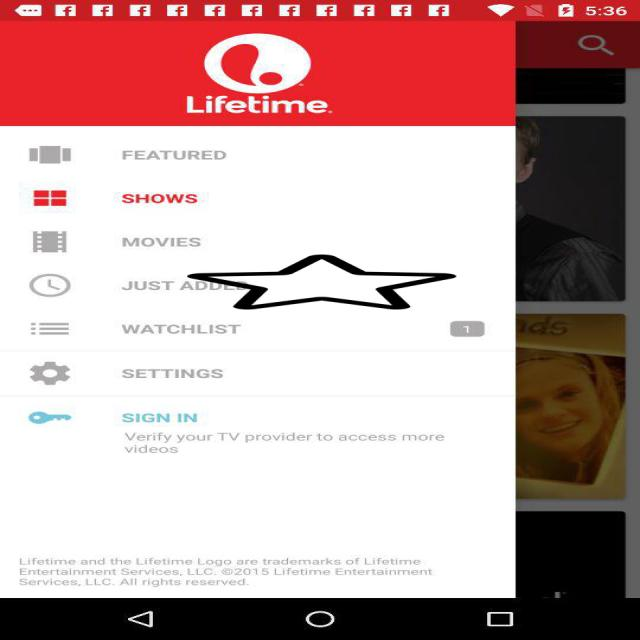forced continuity: (188, 253, 457, 311)
